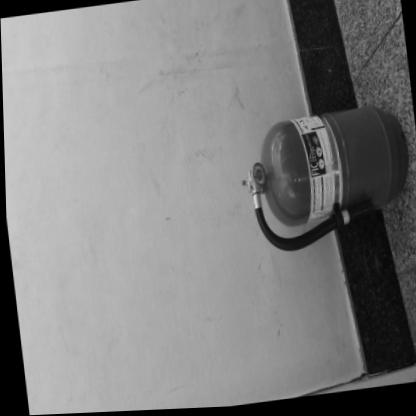FE: (239, 104, 416, 258)
